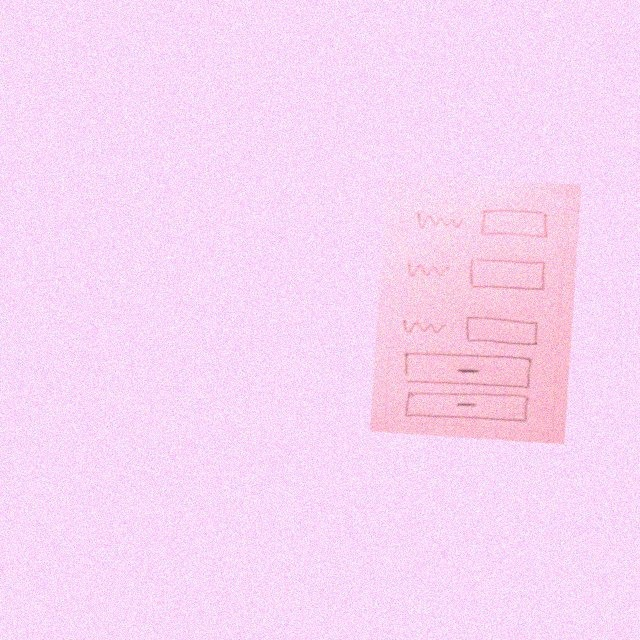button: (398, 347, 535, 393), (397, 385, 533, 428)
text: (411, 209, 466, 238), (398, 312, 449, 341), (403, 257, 453, 281)
text_input: (463, 250, 552, 298), (460, 311, 544, 352), (475, 205, 554, 243)
